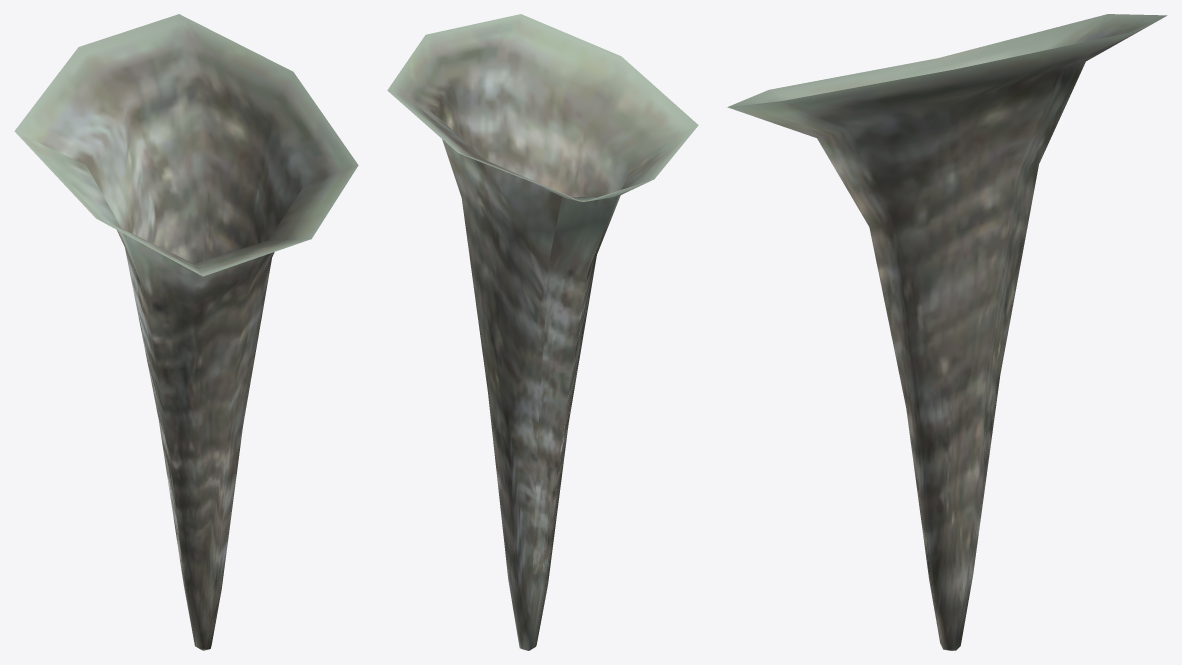
Rendered from TROLLHOLE02_PS-MAINSTALAG34.fbx.
3 views of the same model, side by side, from view 1: azimuth 30°, elevation 25°; view 2: azimuth 150°, elevation 25°; view 3: azimuth 270°, elevation 25° (orthographic). The views are drawn at different scales.
Visible parts, largest first — view 1: TROLLHOLE02_PS-MAINSTALAG34; view 2: TROLLHOLE02_PS-MAINSTALAG34; view 3: TROLLHOLE02_PS-MAINSTALAG34.
Boxes of the visible parts, <box> form: TROLLHOLE02_PS-MAINSTALAG34: <box>14,14,358,650</box>; TROLLHOLE02_PS-MAINSTALAG34: <box>387,14,698,650</box>; TROLLHOLE02_PS-MAINSTALAG34: <box>727,14,1167,650</box>.
Bounding box in the file's own units: 8974 × 22816 × 14068.
1 material, 1 textured.
